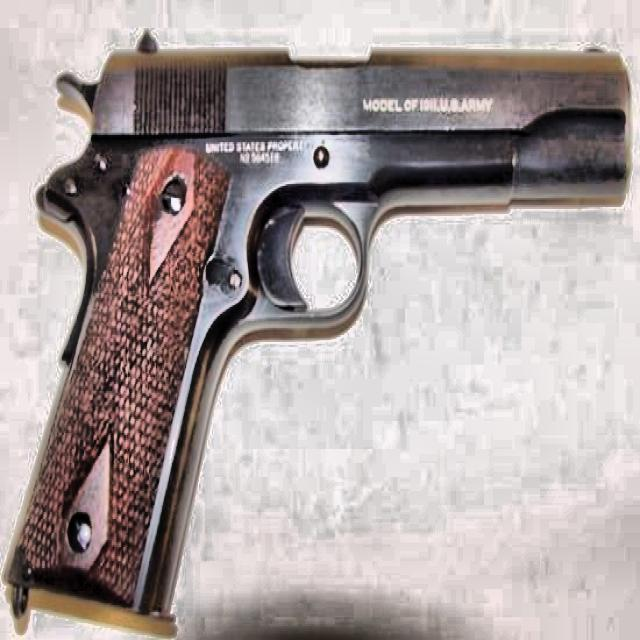Colt m1911: (1, 26, 633, 636)
